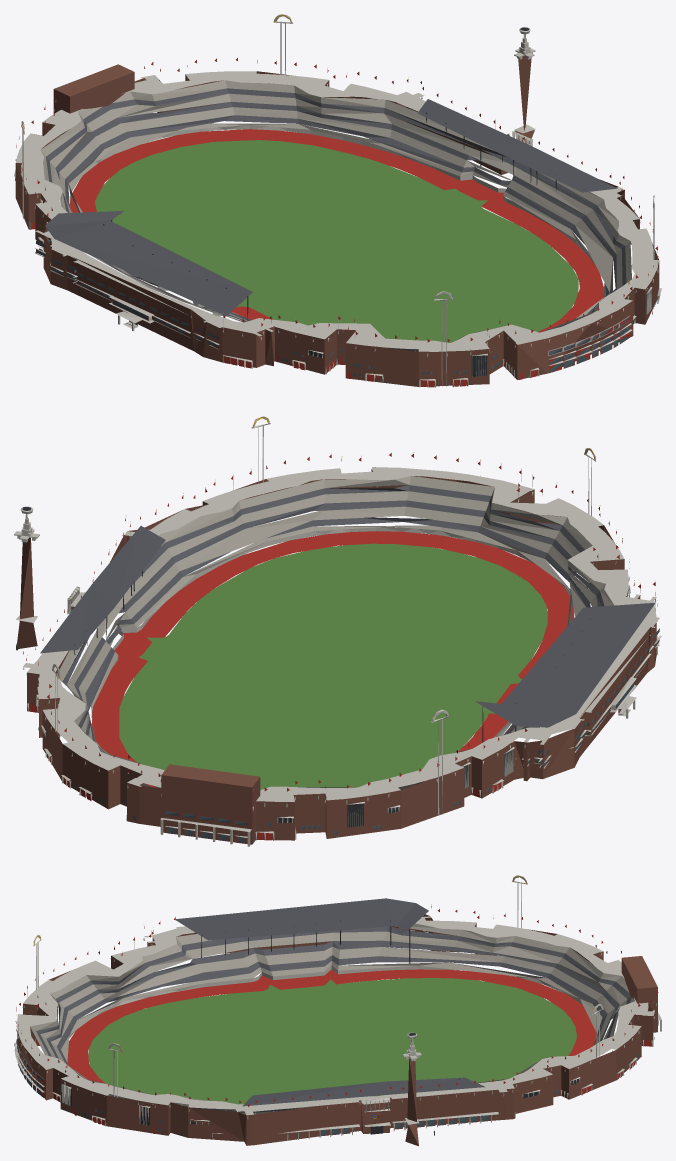
File: olympisch-stadion.lod1.glb
3 renders of one model, top to bottom at view 1: azimuth 30°, elevation 25°; view 2: azimuth 150°, elevation 25°; view 3: azimuth 270°, elevation 25°, orthographic. The views are drawn at different scales.
Parts seen in each view (by area): view 1: olympisch-stadion; view 2: olympisch-stadion; view 3: olympisch-stadion.
Part boxes in pixels (box(x1,y1,x2,y2)): olympisch-stadion: box(14, 14, 661, 387); olympisch-stadion: box(14, 416, 661, 846); olympisch-stadion: box(14, 875, 661, 1146).
Bounding box in the file's own units: 189 × 46 × 246.
